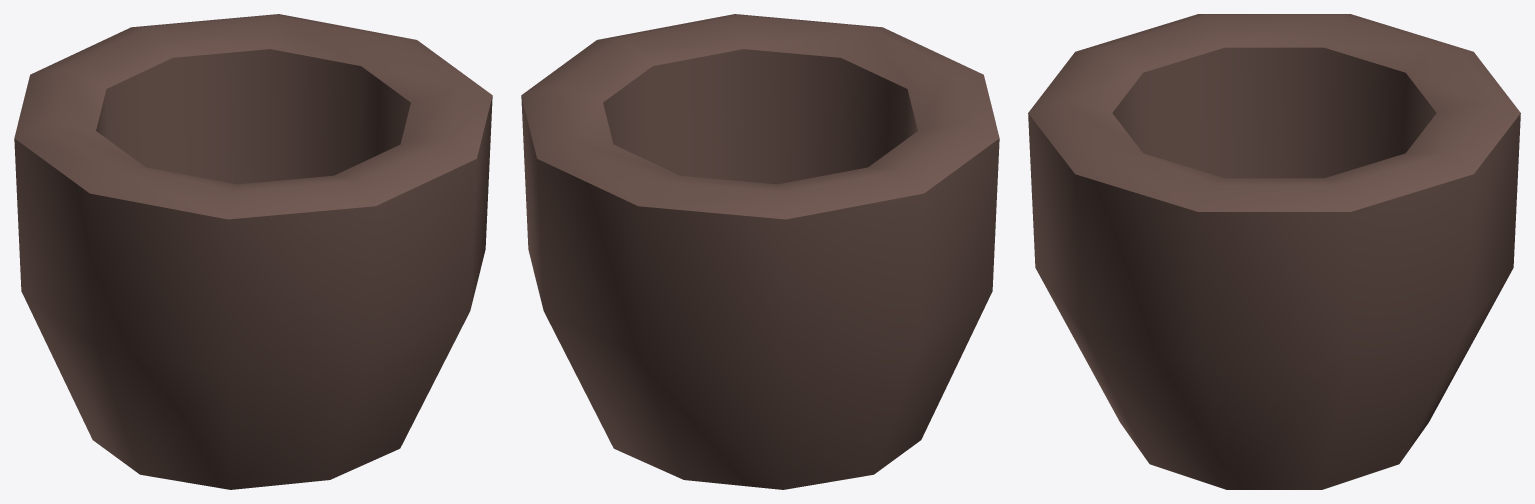
File: cup_empty.gltf.glb
3 renders of one model, left to right at view 1: azimuth 30°, elevation 25°; view 2: azimuth 150°, elevation 25°; view 3: azimuth 270°, elevation 25°, orthographic.
Visible parts, largest first — view 1: cup_empty; view 2: cup_empty; view 3: cup_empty.
Part boxes in pixels (bbox=[...]): cup_empty: bbox=[14, 14, 492, 489]; cup_empty: bbox=[521, 14, 999, 489]; cup_empty: bbox=[1028, 14, 1520, 489].
Bounding box in the file's own units: 0.2814 × 0.2134 × 0.2959.
